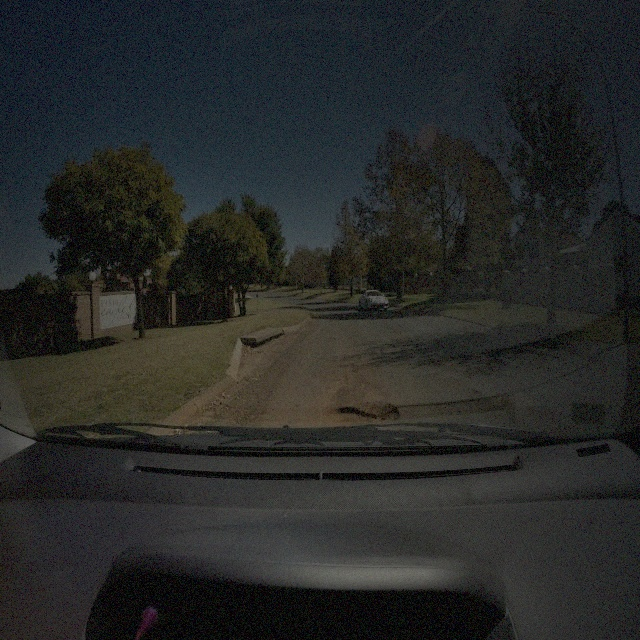pothole: (356, 398, 400, 424), (524, 403, 554, 423)
